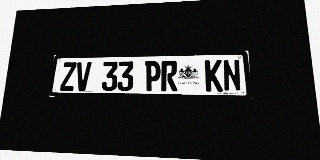3: (101, 61, 118, 91), (117, 61, 134, 91)
K: (205, 60, 223, 91)
N: (222, 59, 242, 92)
P: (144, 61, 161, 91)
R: (161, 60, 177, 91)
V: (75, 62, 92, 91)
Z: (60, 62, 77, 91)
